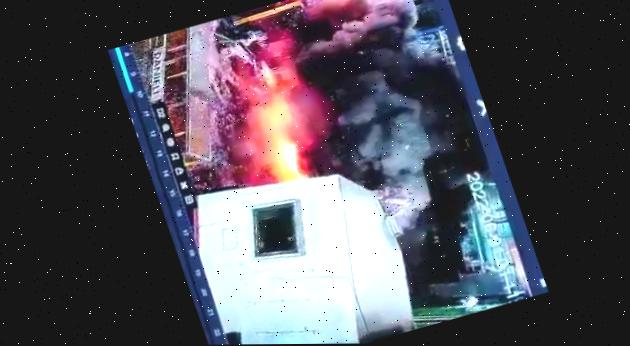fire: (216, 15, 367, 187)
